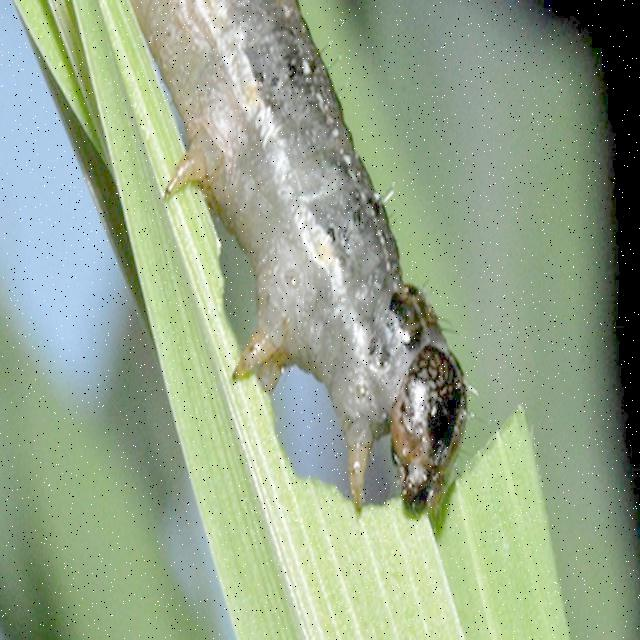worm: (123, 1, 479, 518), (385, 282, 479, 514)
